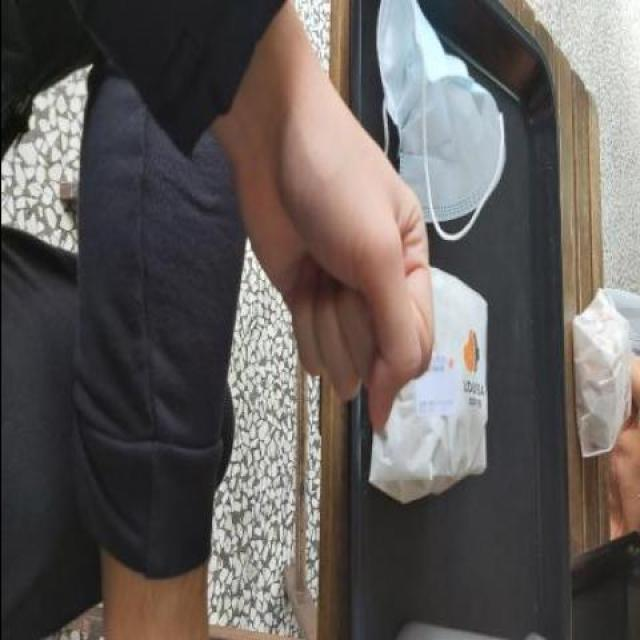fist: (229, 108, 434, 433)
